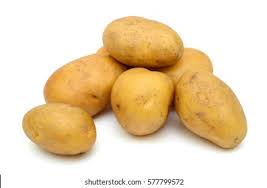potato: (176, 69, 250, 151), (99, 11, 185, 68), (18, 100, 101, 156), (109, 70, 173, 136)
